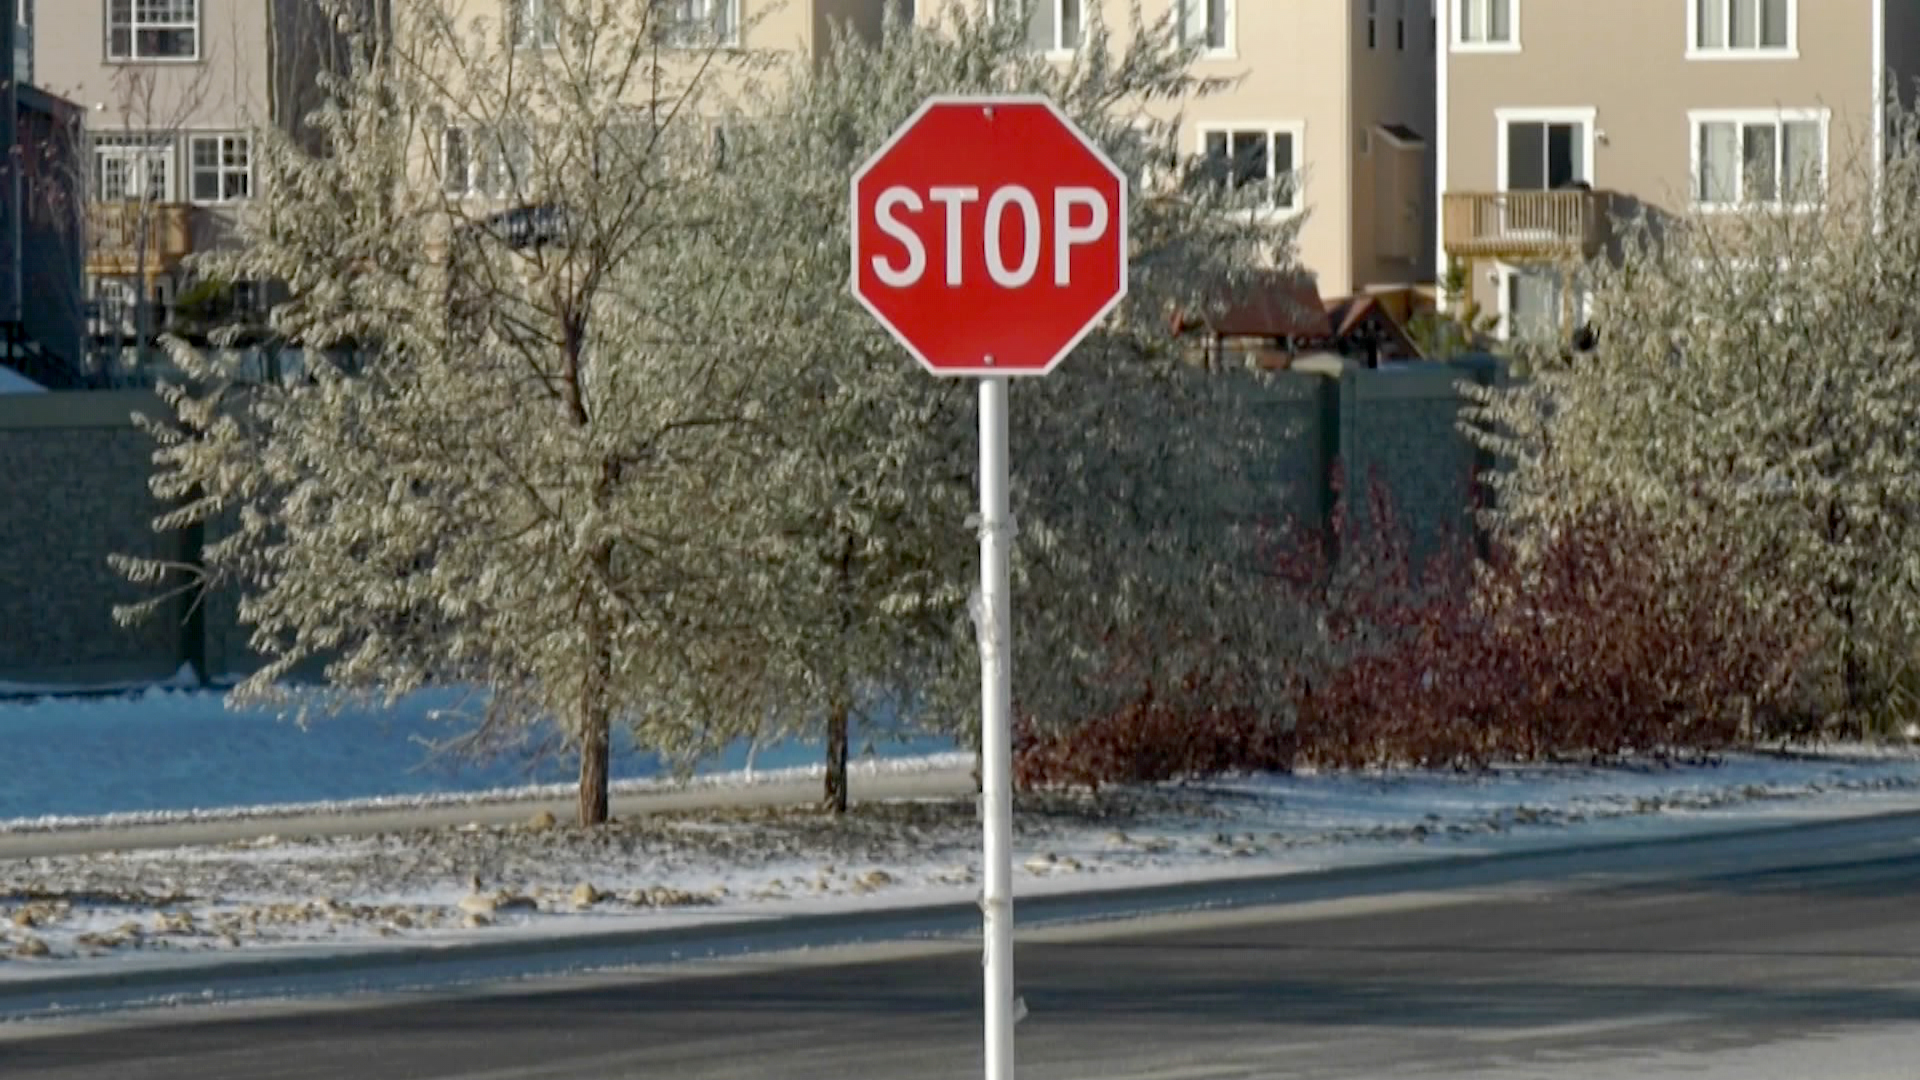stop_sign: (847, 95, 1131, 377)
